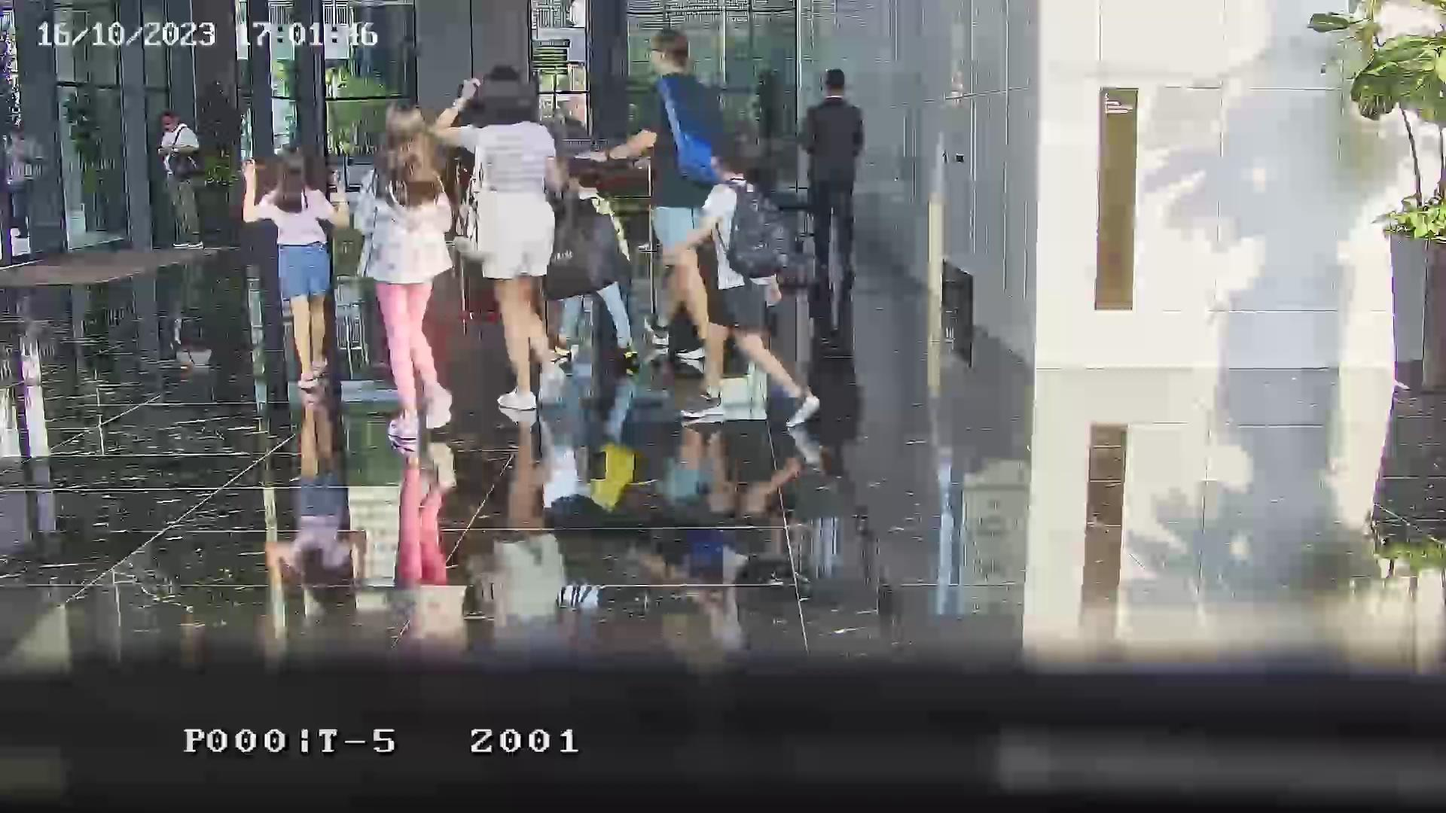person: (606, 29, 743, 349), (450, 65, 566, 420), (355, 102, 459, 440), (254, 148, 339, 389), (800, 69, 865, 303), (157, 111, 202, 249)
